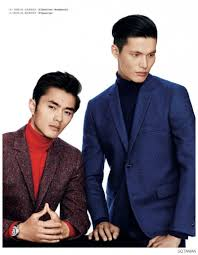asian_male: (112, 19, 168, 87)
